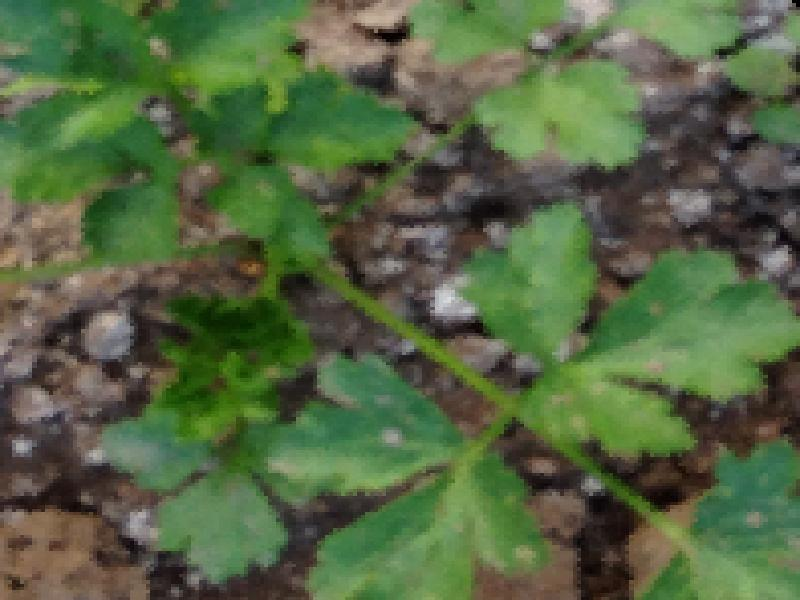radish: (0, 0, 741, 600)
